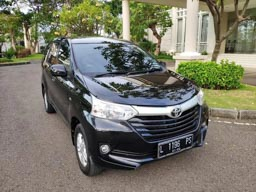plat: (158, 135, 192, 157)
